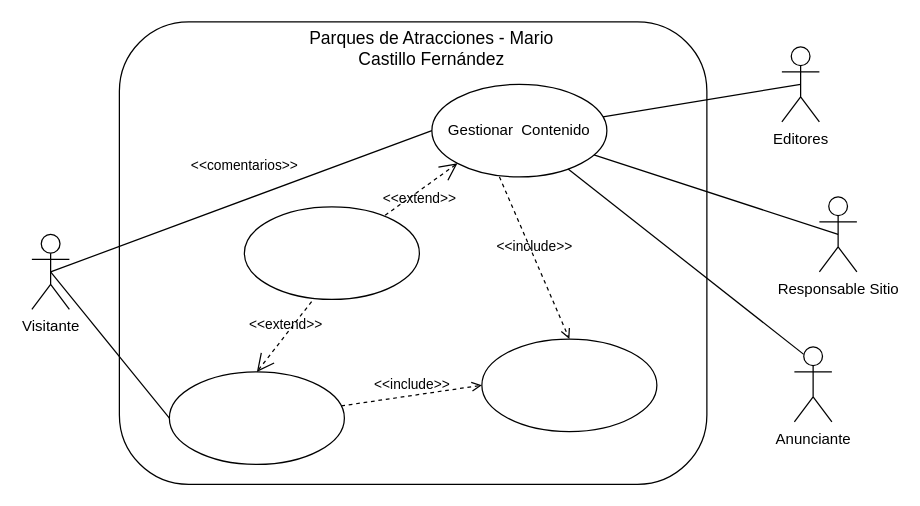
This 920x506 diagram has some shape labels left out. The centre of each missing label's shape, as x and y in pixels:
"Buscar Sitio" belongs at [331,252].
"Gestionar Estadisticas" belongs at [569,385].
"Mostrar sitio" belongs at [256,417].
